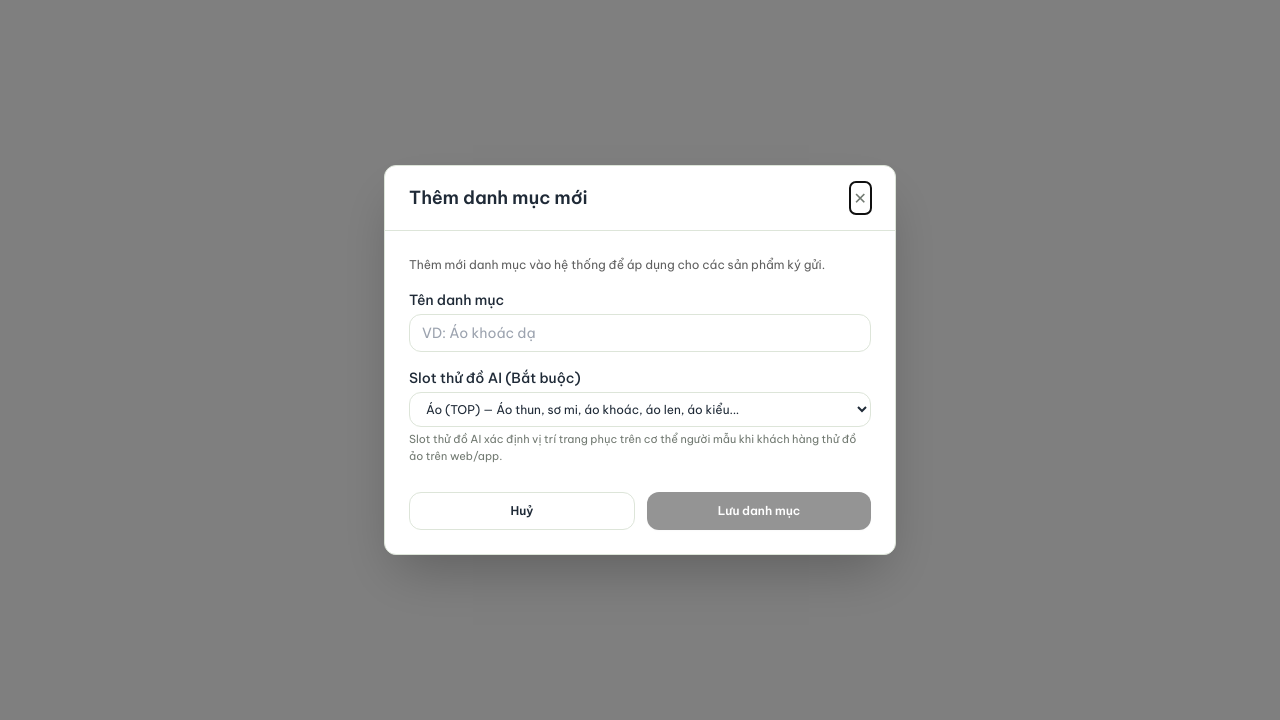
Test: ConsignmentDetailPage component behaviors › Task 7: CategoryBrandPage & CatalogEditor behaviors › CatalogEditor: creates new category with tryonSlot and displays duplicate error on 409
Expected: the heading "Thêm danh mục mới" is shown, [409, 184, 588, 212]
Expected: the dropdown labelled "Slot thử đồ AI (Bắt buộc)" is shown, [409, 392, 871, 427]
# Enter name
Type "Áo polo" into the field labelled "Tên danh mục".
click(640, 333); type("Áo polo")  # box [409, 314, 871, 352]
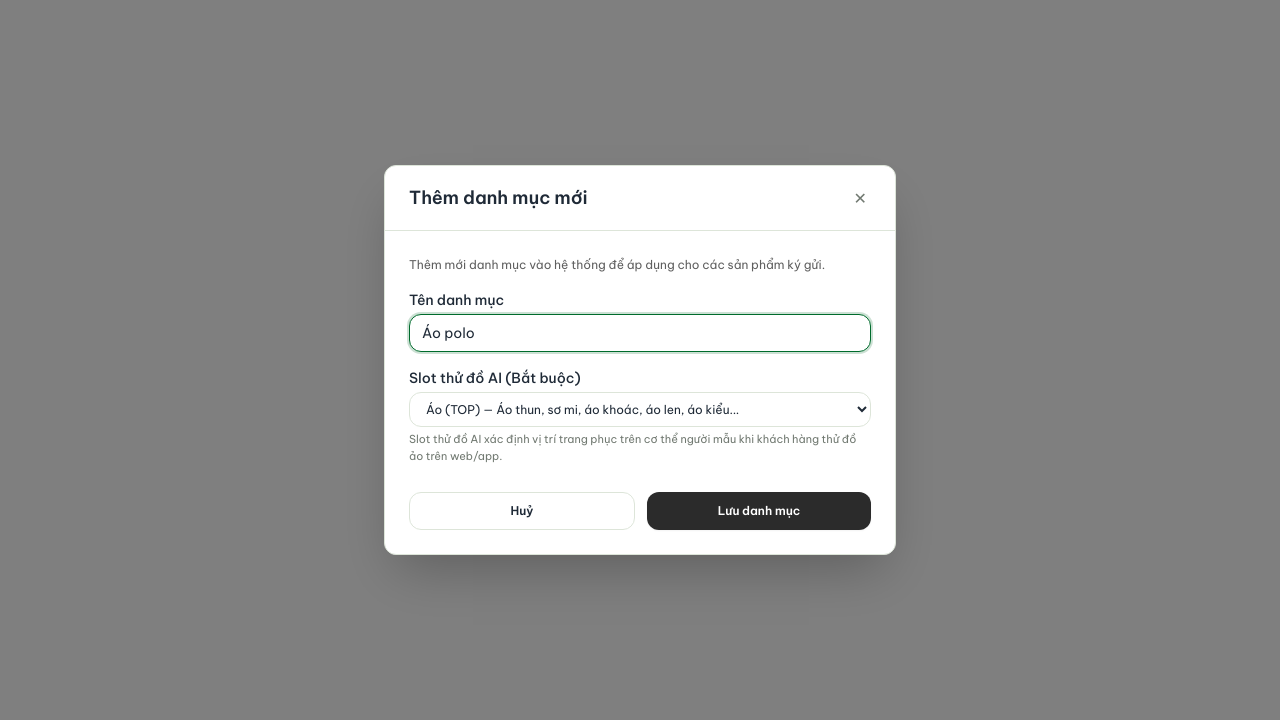
Click the button "Lưu danh mục".
click(759, 511)  # box [647, 492, 871, 530]
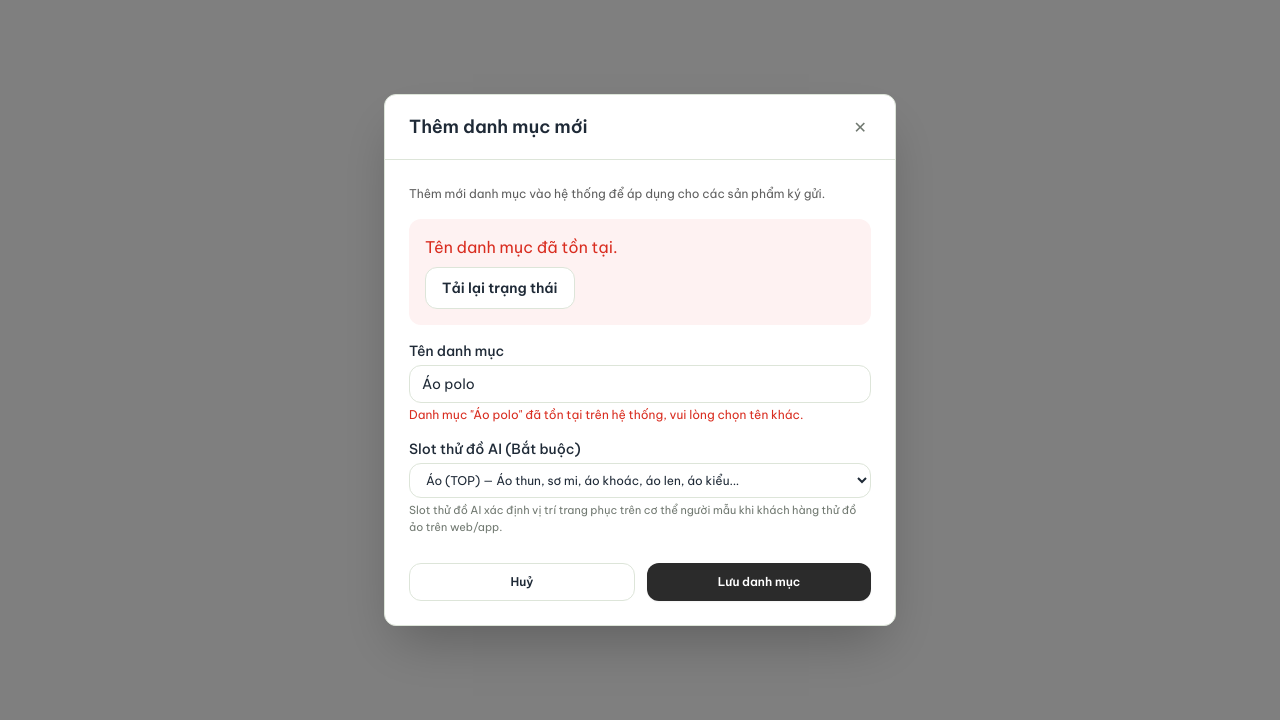
Result: the text "Danh mục \"Áo polo\" đã tồn tại trên hệ thống, vui lòng chọn tên khác." is shown at [409, 407, 871, 423]
